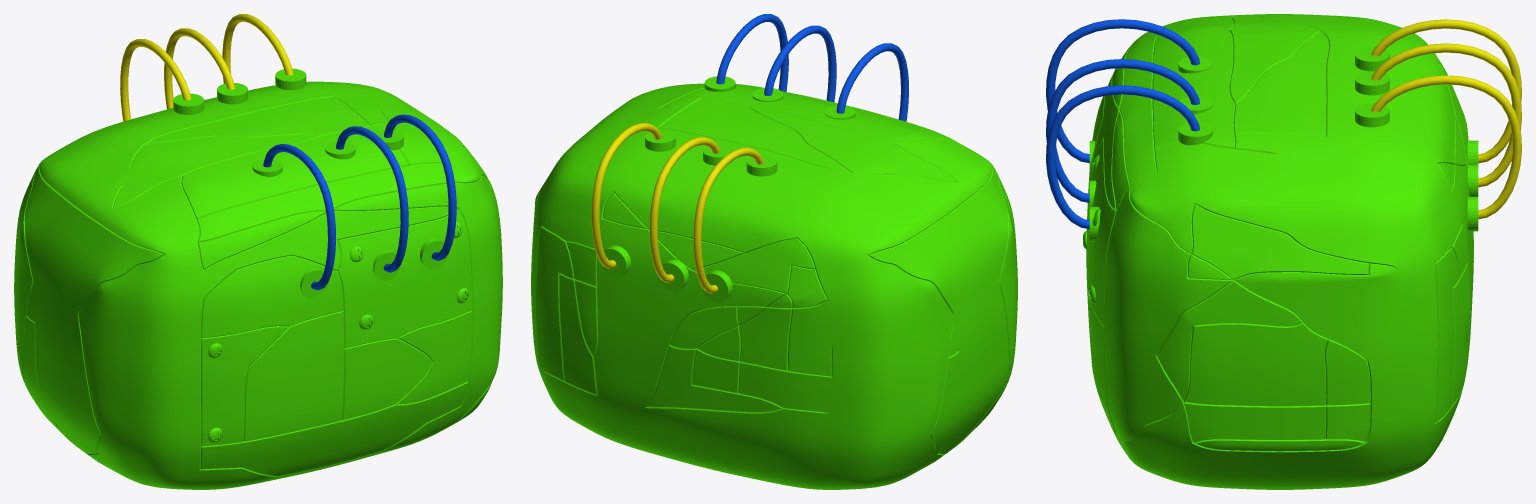
3 views of the same model, side by side, from view 1: azimuth 30°, elevation 25°; view 2: azimuth 150°, elevation 25°; view 3: azimuth 270°, elevation 25° (orthographic). The views are drawn at different scales.
Visible parts, largest first — view 1: Cube; view 2: Cube; view 3: Cube.
Part boxes in pixels (x1=…): Cube: x1=14, y1=14, x2=502, y2=489; Cube: x1=531, y1=14, x2=1017, y2=489; Cube: x1=1046, y1=14, x2=1521, y2=489.
Bounding box in the file's own units: 699 × 567 × 623.
